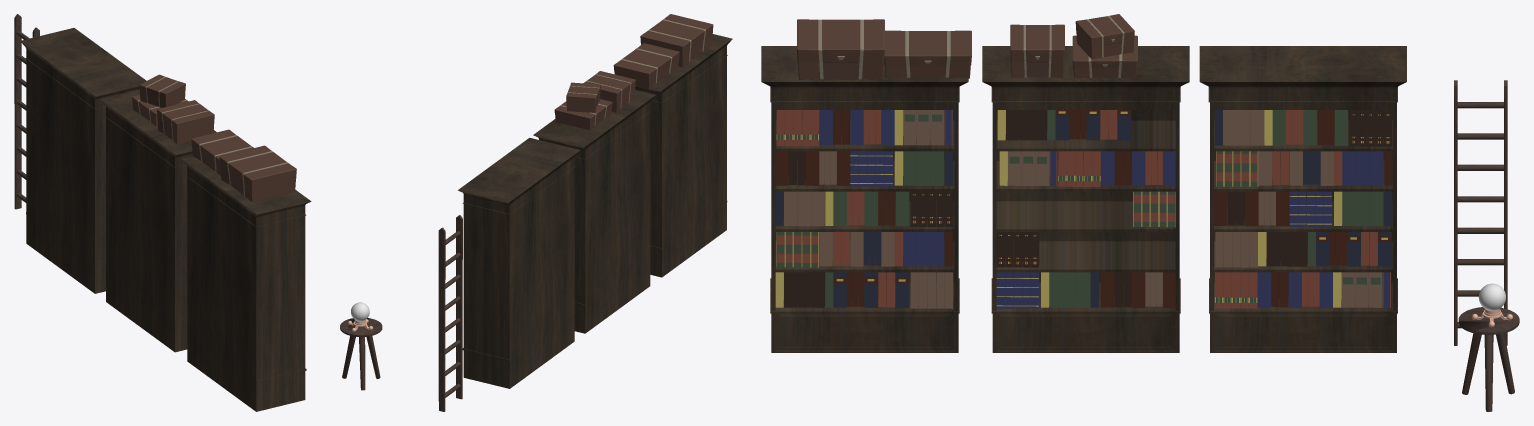
The model's file is set for game.fbx.
3 renders of one model, left to right at view 1: azimuth 30°, elevation 25°; view 2: azimuth 150°, elevation 25°; view 3: azimuth 270°, elevation 25°, orthographic. The views are drawn at different scales.
Visible parts, largest first — view 1: Cube.005, Cube.006, Cube.007, Cube.055, Cube.057, Cylinder, Cube.056, Cube.059, Cube.058; view 2: Cube.006, Cube.007, Cube.005, Cylinder, Cube.055, Cube.056, Cylinder.003, Cube.057, Cube.058, Cube.059; view 3: Cube.007, Cube.006, Cube.005, Cube.055, Cube.038, Cube.035, Cube.010, Cube.012, Cube.036, Cube.054, Cube.056, Cylinder (+29 smaller).
Boxes of the visible parts, x1,y1,x2,y2 form: Cube.005: (181, 156, 311, 411); Cube.006: (20, 28, 146, 293); Cube.007: (100, 90, 216, 352); Cube.055: (219, 145, 296, 201); Cube.057: (157, 100, 214, 144); Cylinder: (14, 14, 39, 209); Cube.056: (191, 129, 253, 175); Cube.059: (139, 74, 185, 107); Cube.058: (132, 94, 188, 126); Cube.006: (458, 137, 580, 388); Cube.007: (533, 90, 655, 333); Cube.005: (635, 34, 732, 277); Cylinder: (438, 215, 462, 411); Cube.055: (640, 14, 713, 67); Cube.056: (613, 43, 679, 89); Cylinder.003: (340, 318, 382, 390); Cube.057: (583, 71, 635, 112); Cube.058: (554, 99, 612, 130); Cube.059: (566, 82, 600, 112); Cube.007: (982, 46, 1189, 352); Cube.006: (1199, 46, 1406, 352); Cube.005: (761, 46, 968, 352); Cube.055: (797, 19, 884, 79); Cube.038: (775, 272, 909, 307); Cube.035: (1258, 232, 1391, 266); Cube.010: (776, 110, 894, 146); Cube.012: (1215, 272, 1332, 308); Cube.036: (1058, 151, 1175, 186); Cube.054: (997, 110, 1131, 140); Cube.056: (884, 30, 971, 78); Cylinder: (1454, 80, 1507, 345).
Bounding box in the file's own units: 388 × 590 × 1281.
